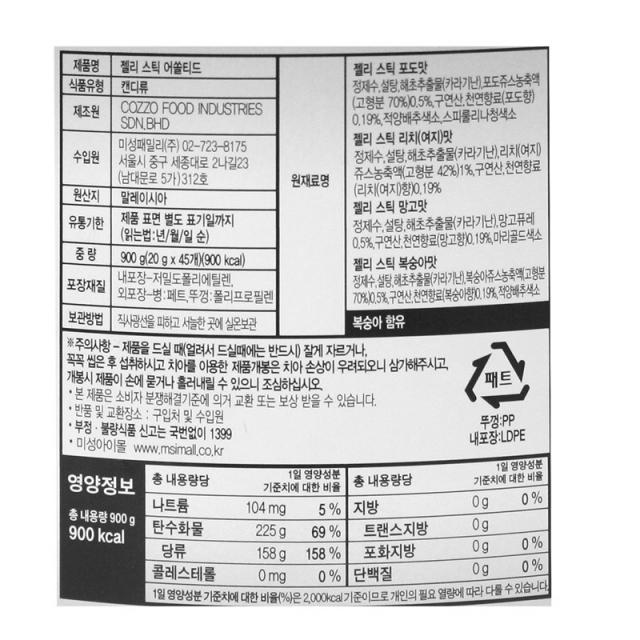Nutrition Label: (48, 450, 574, 623)
